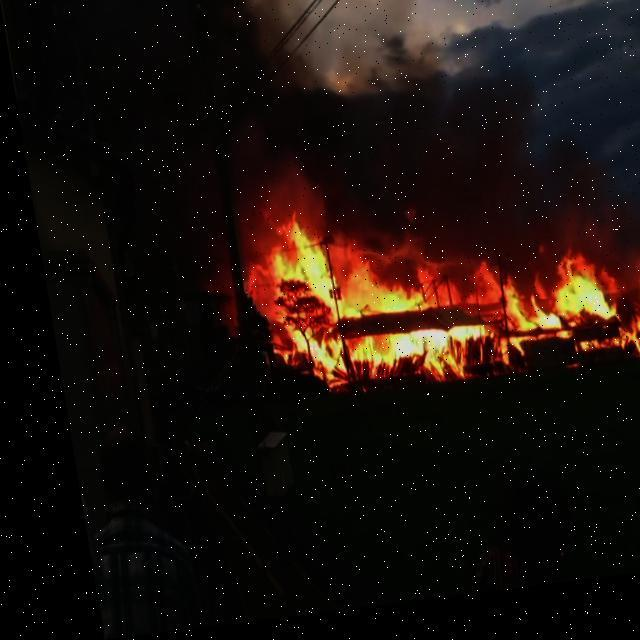Fire: (243, 183, 639, 408)
